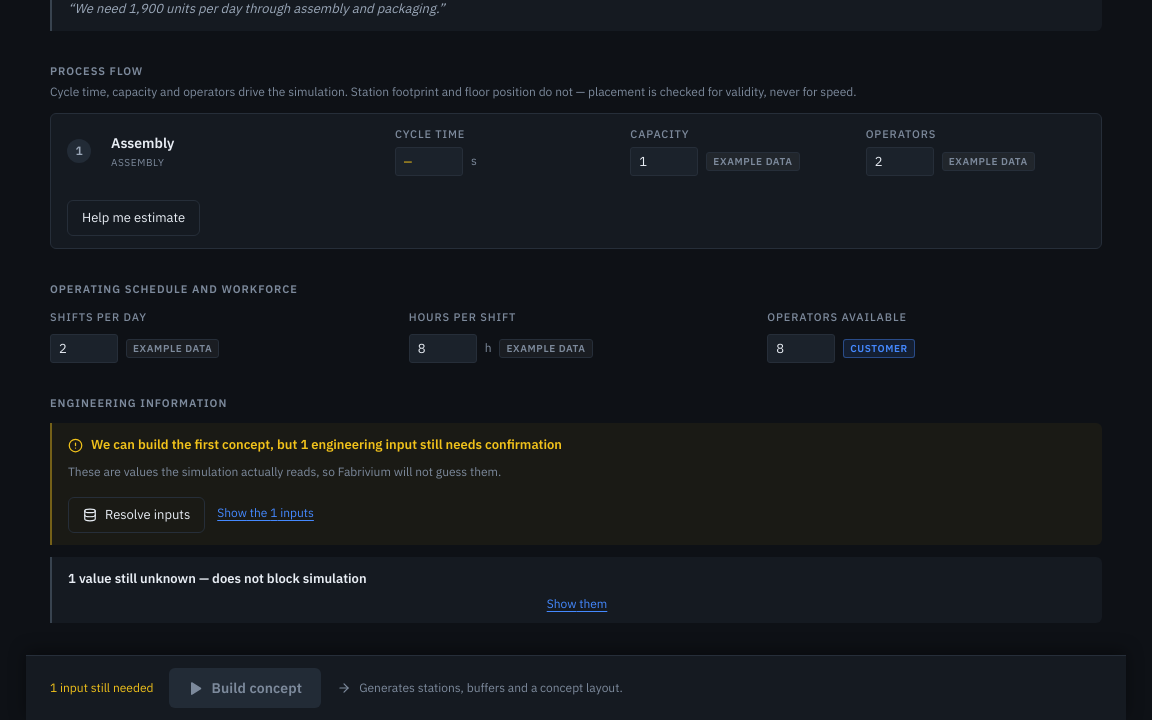
information gaps presentation › discloses the individual inputs on request
(page scrolled)
Click the button with test id "gap-required-toggle" at [266, 513], box [217,505,314,520]
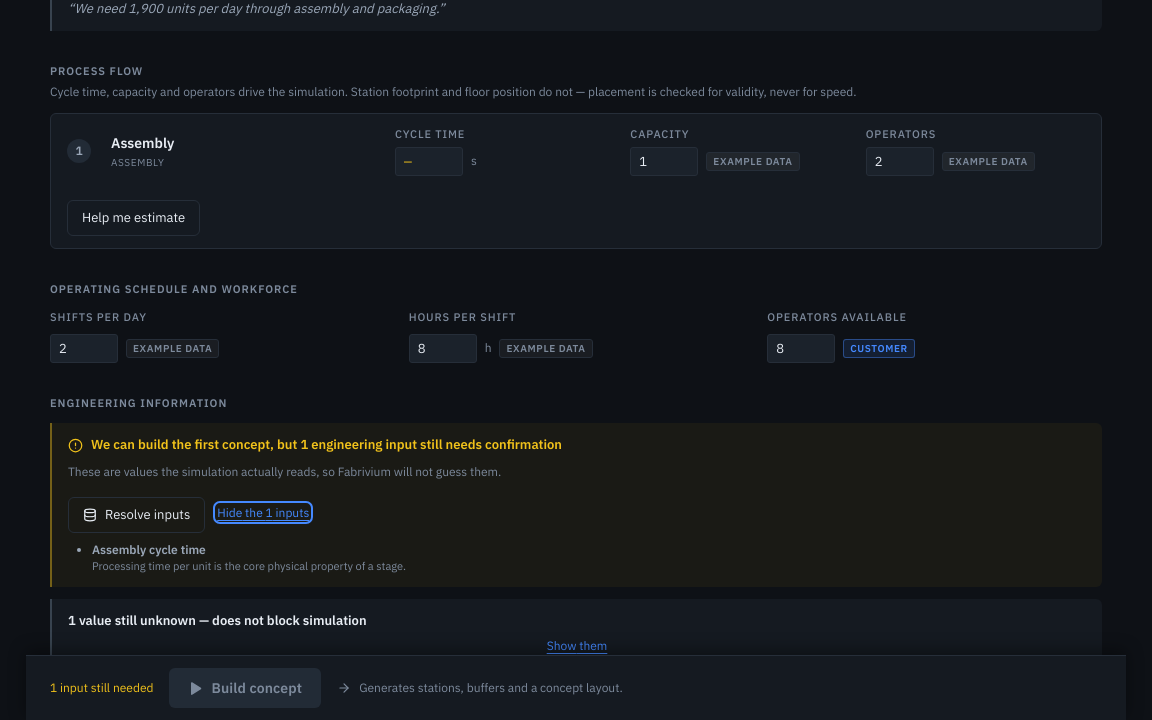
Check: the list with test id "gap-required-list" shows "Assembly cycle time", box [92,542,206,557]
